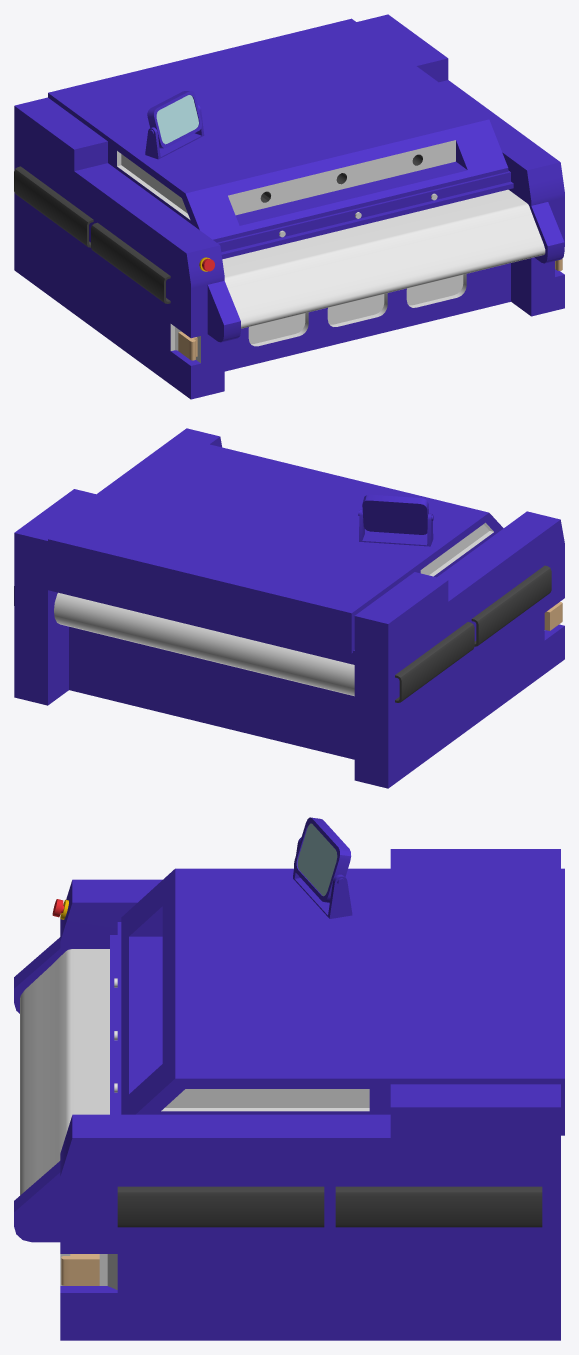
Rendered from Ironing_Machine.fbx.
The picture shows the model from 3 angles, top to bottom: view 1: azimuth 30°, elevation 25°; view 2: azimuth 150°, elevation 25°; view 3: azimuth 270°, elevation 25°; orthographic projection. The views are drawn at different scales.
Visible parts, largest first — view 1: Ironing_Machine; view 2: Ironing_Machine; view 3: Ironing_Machine.
Boxes of the visible parts, x1,y1,x2,y2 form: Ironing_Machine: (14,14,564,399); Ironing_Machine: (14,428,564,788); Ironing_Machine: (14,817,564,1340).
Size of the model in its own units: 3.34 by 1.75 by 2.9.
